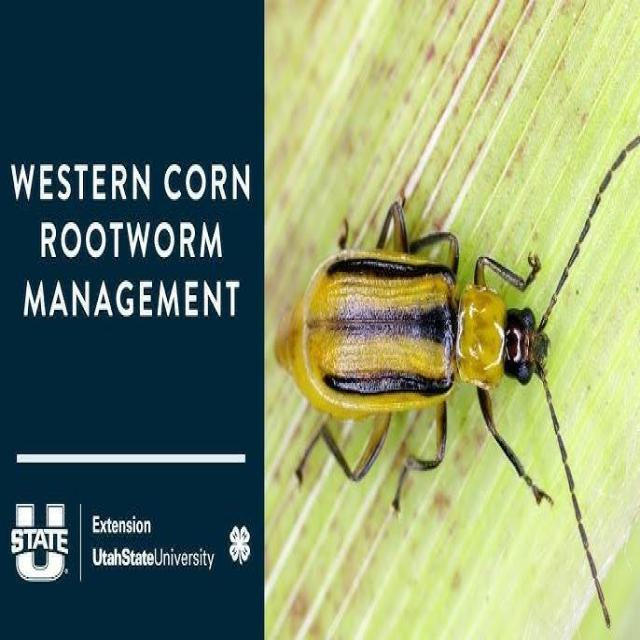trips: (273, 132, 640, 628)
